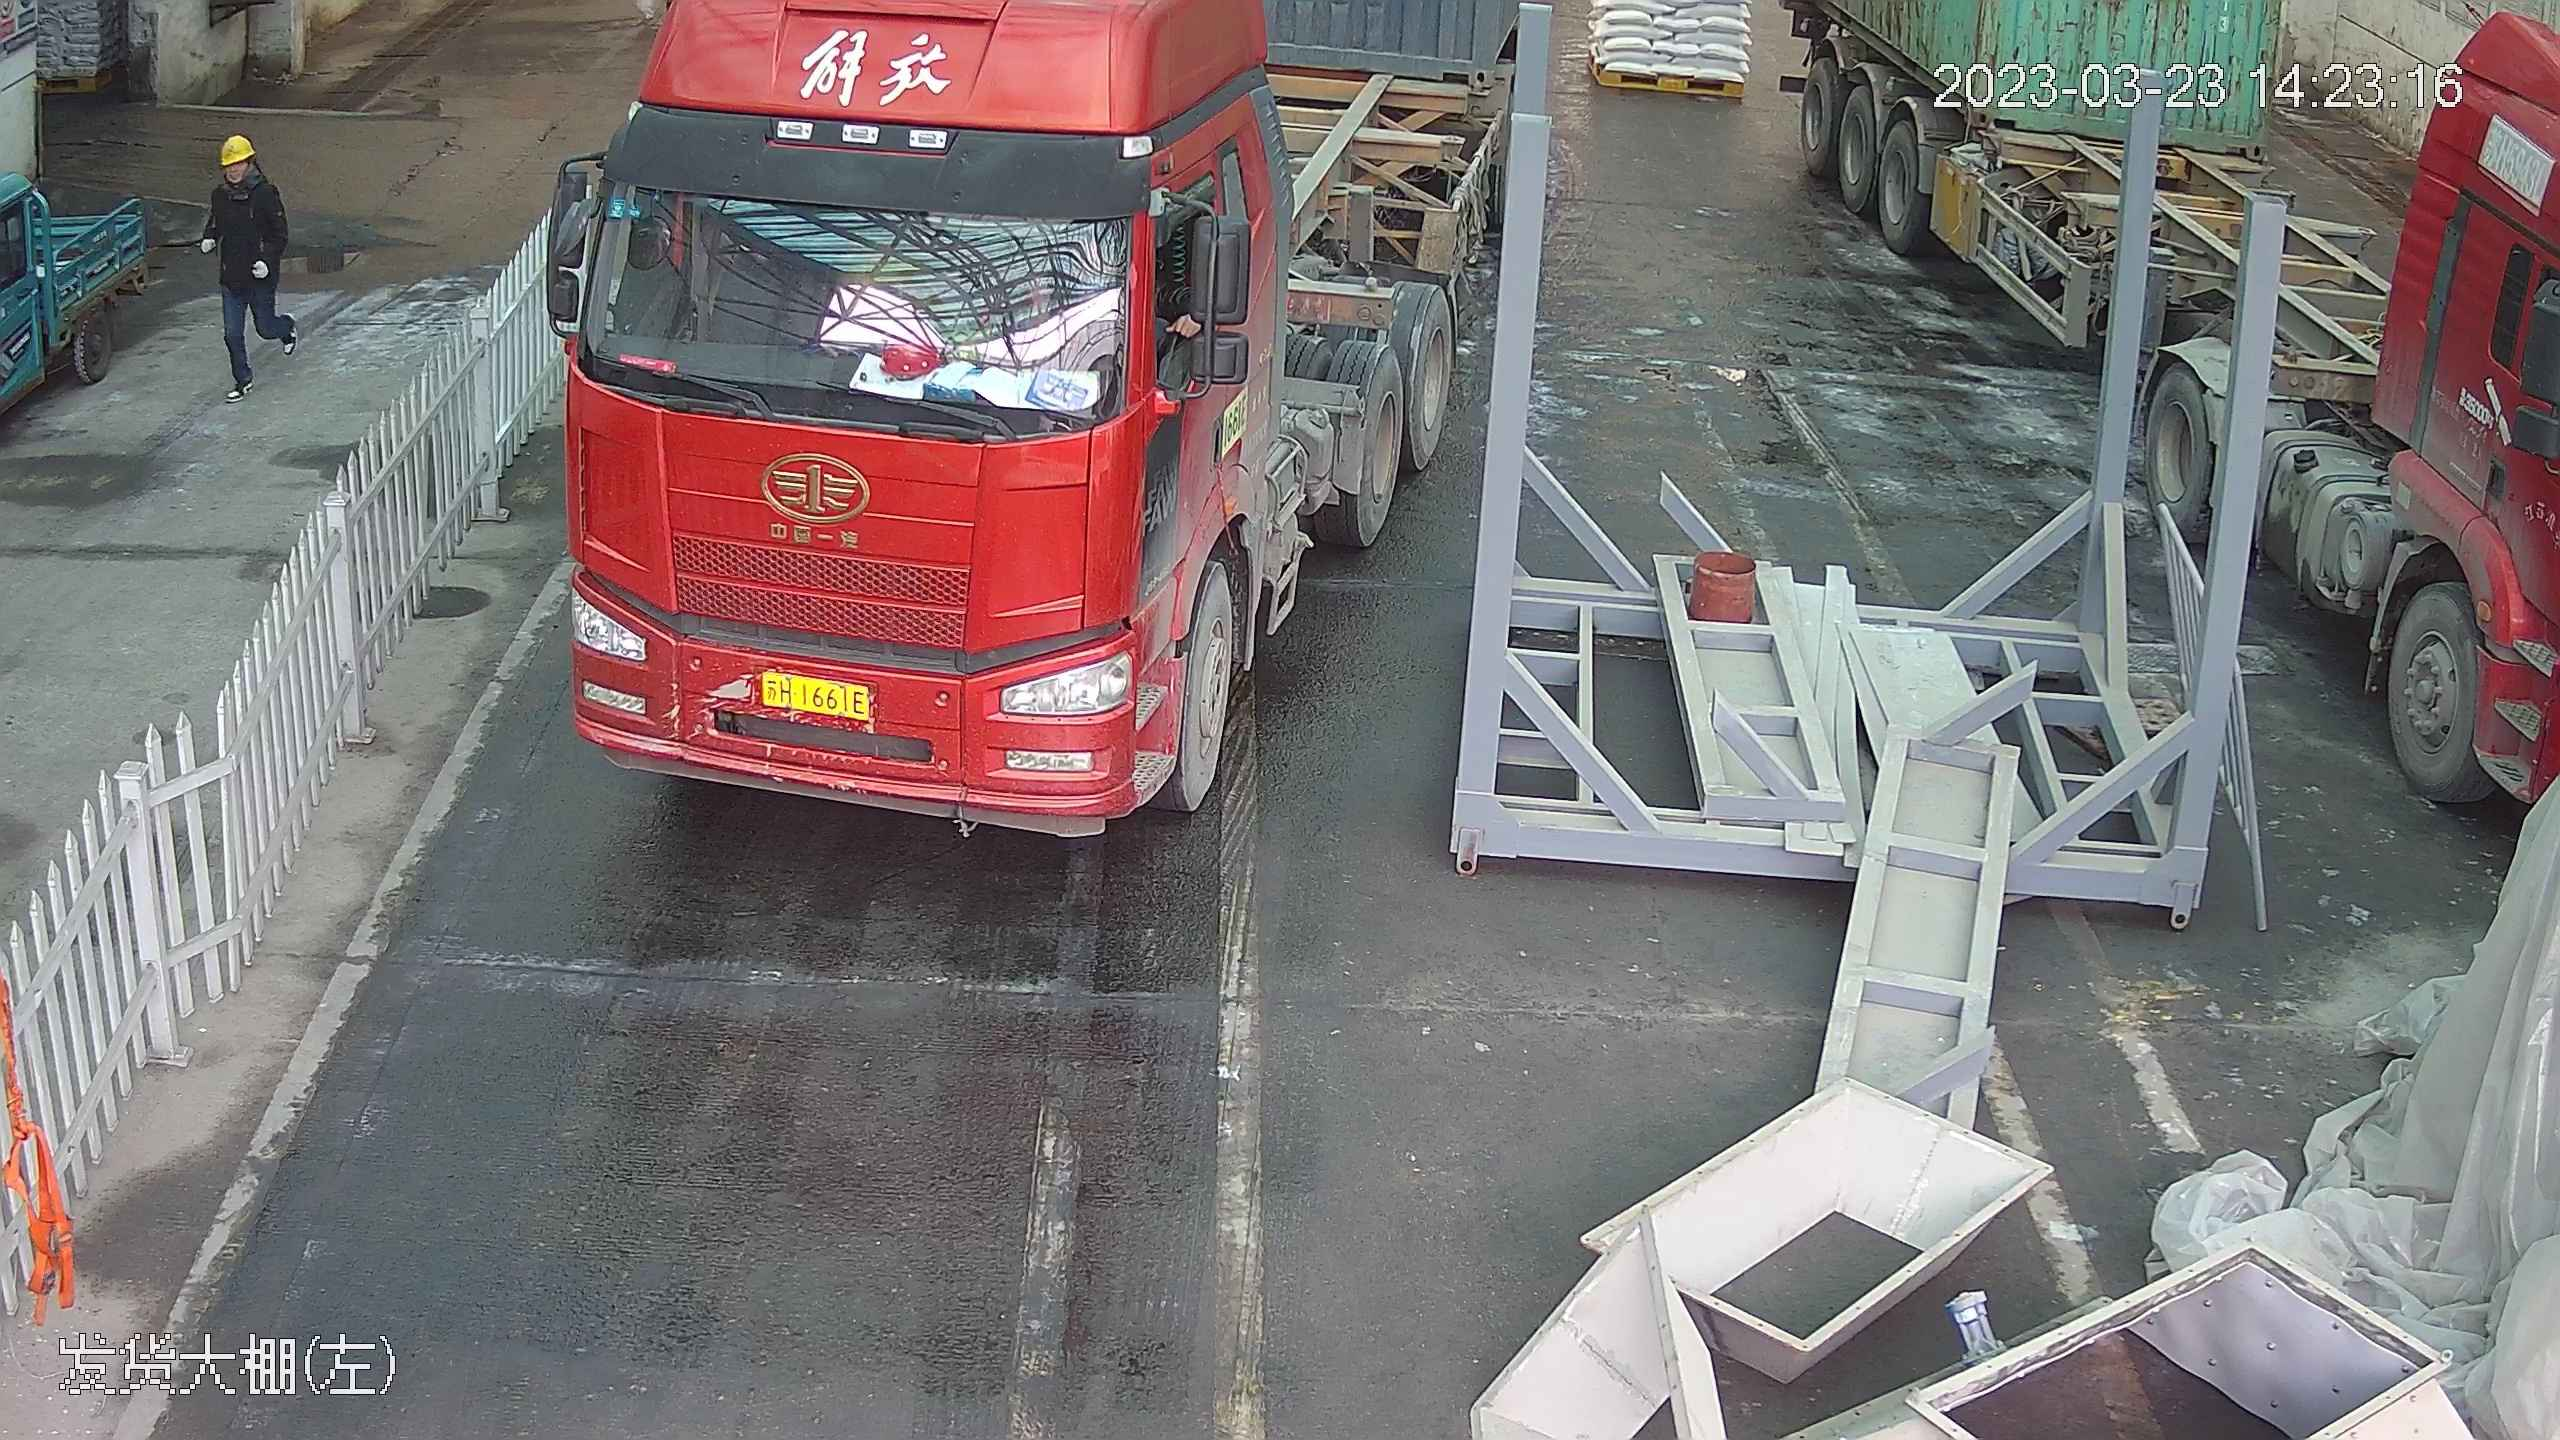head: (205, 131, 284, 220)
helmet: (216, 130, 259, 165)
people: (199, 128, 305, 391)
truck: (524, 0, 1439, 822), (2242, 0, 2559, 1427)
